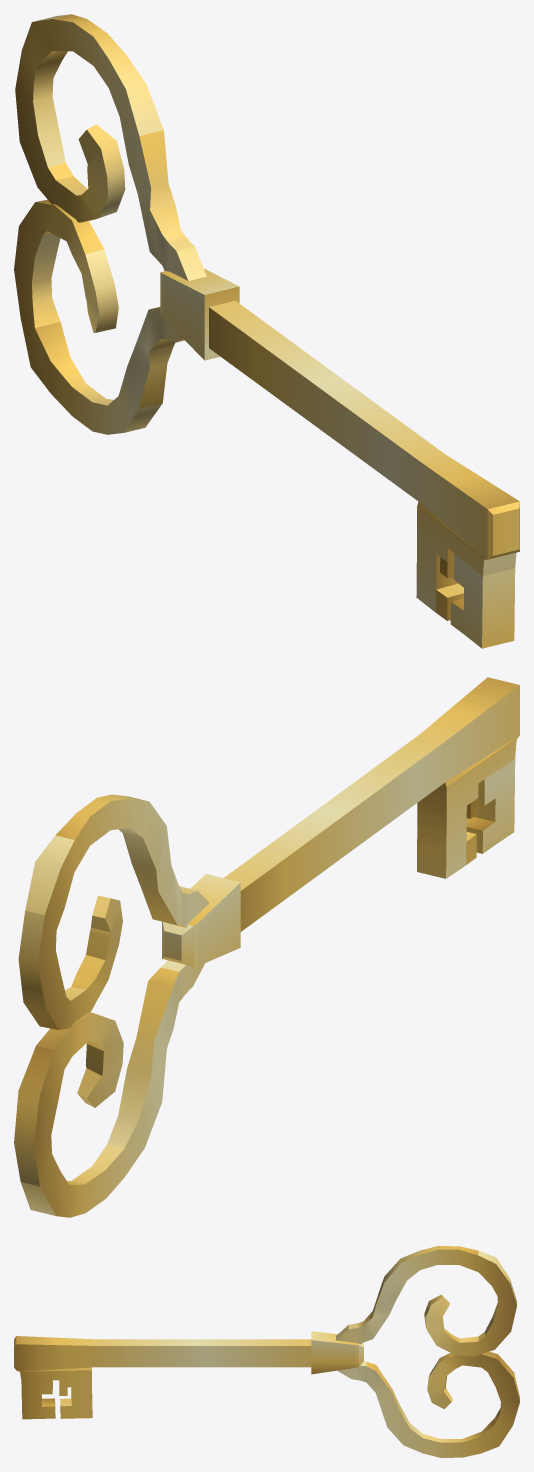
The model's file is Key.fbx.
3 renders of one model, top to bottom at view 1: azimuth 30°, elevation 25°; view 2: azimuth 150°, elevation 25°; view 3: azimuth 270°, elevation 25°, orthographic. The views are drawn at different scales.
Visible parts, largest first — view 1: pCube1, polySurface5, polySurface2, pCube3; view 2: pCube1, polySurface2, polySurface5, pCube3; view 3: pCube1, polySurface5, polySurface2, pCube3.
Part boxes in pixels (left/top/right/bottom): pCube1: left=209, top=300, right=519, bottom=648; polySurface5: left=15, top=14, right=206, bottom=280; polySurface2: left=14, top=199, right=184, bottom=434; pCube3: left=160, top=268, right=239, bottom=360; pCube1: left=224, top=677, right=519, bottom=931; polySurface2: left=14, top=960, right=204, bottom=1217; polySurface5: left=18, top=794, right=209, bottom=1029; pCube3: left=162, top=874, right=240, bottom=966; pCube1: left=14, top=1336, right=311, bottom=1419; polySurface5: left=336, top=1246, right=516, bottom=1356; polySurface2: left=337, top=1351, right=519, bottom=1457; pCube3: left=311, top=1331, right=363, bottom=1374.
Size of the model in its own units: 0.3445 by 3.75 by 8.27.
4 materials, 4 textured.
